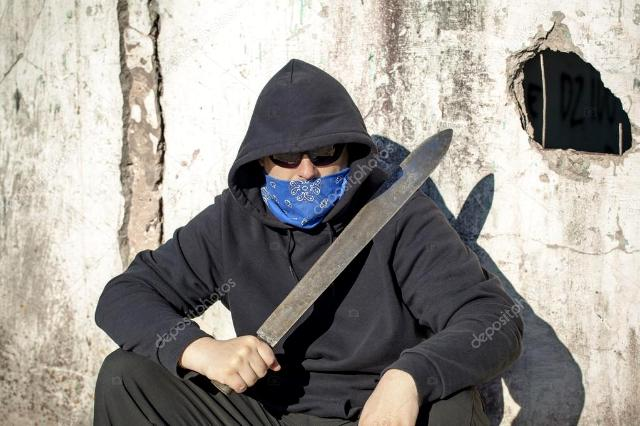long knife: (236, 130, 468, 376)
